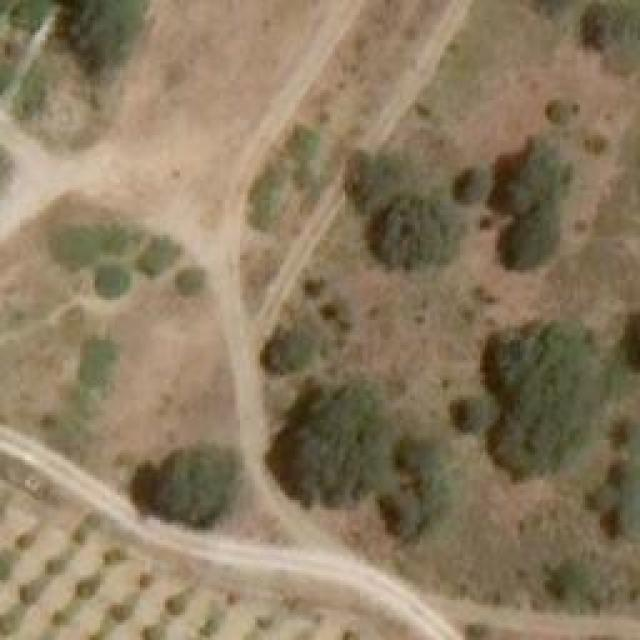Tree: (483, 325, 606, 478), (280, 382, 393, 500), (138, 440, 241, 535), (373, 195, 458, 268), (550, 553, 640, 616), (498, 138, 573, 213), (580, 460, 640, 538), (403, 437, 463, 515), (347, 144, 417, 209), (503, 205, 563, 273), (245, 166, 292, 228), (73, 343, 118, 393), (375, 488, 418, 538), (6, 0, 54, 43), (580, 8, 625, 51), (273, 327, 313, 375), (280, 125, 320, 168), (452, 165, 490, 208), (55, 230, 93, 273), (93, 263, 128, 303), (453, 398, 488, 431), (140, 240, 173, 273), (173, 265, 203, 298), (545, 100, 575, 128), (108, 603, 131, 626), (163, 595, 186, 615), (585, 135, 608, 155), (75, 578, 95, 598), (20, 585, 40, 605), (48, 607, 68, 625), (102, 547, 120, 565), (255, 615, 273, 633), (140, 625, 160, 640), (200, 618, 215, 638), (138, 572, 153, 590), (70, 527, 85, 545), (48, 558, 63, 573), (18, 535, 33, 550)
